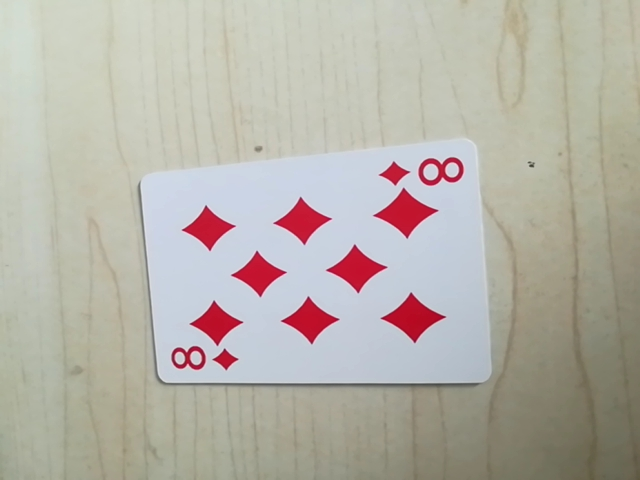fk 8: (377, 151, 468, 192), (166, 341, 242, 380)
